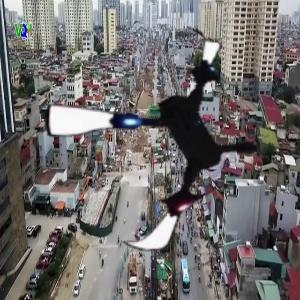drone: (38, 21, 276, 259)
